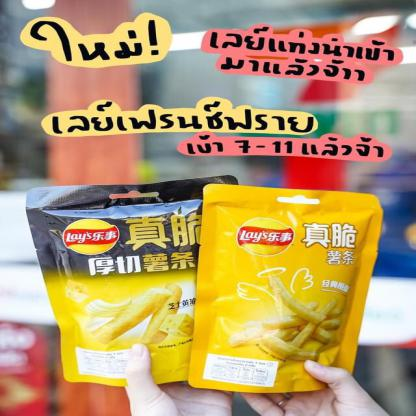potatochip: (20, 173, 249, 389), (183, 178, 388, 397)
